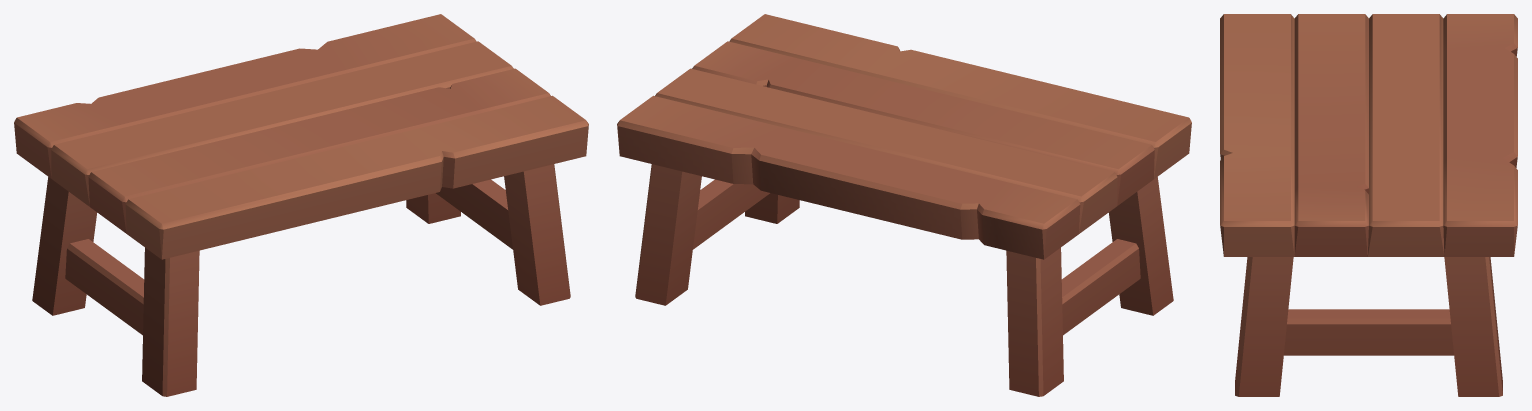
File: TableR4R.glb
3 views of the same model, side by side, from view 1: azimuth 30°, elevation 25°; view 2: azimuth 150°, elevation 25°; view 3: azimuth 270°, elevation 25° (orthographic).
Parts seen in each view (by area): view 1: table_long; view 2: table_long; view 3: table_long.
Part boxes in pixels (<box>): table_long: <box>14,14,588,396</box>; table_long: <box>617,14,1191,396</box>; table_long: <box>1220,14,1517,396</box>.
Bounding box in the file's own units: 2 × 0.8 × 1.2.
Materials: 1 (1 with a texture image).
